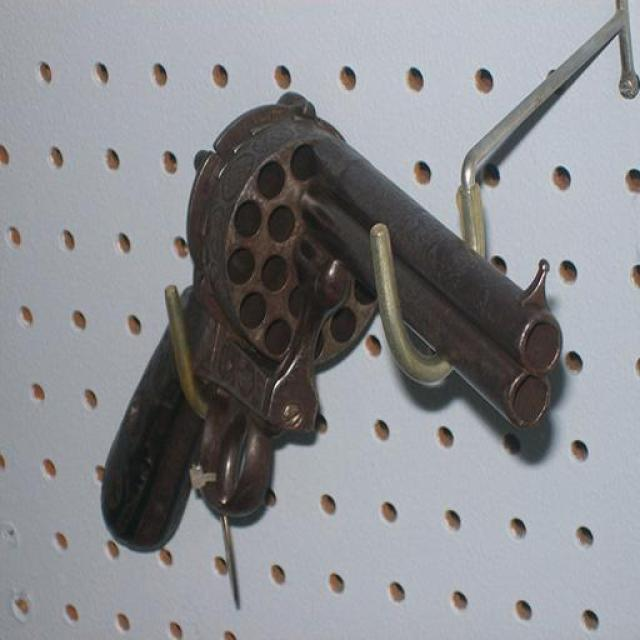pistol: (98, 76, 566, 538)
